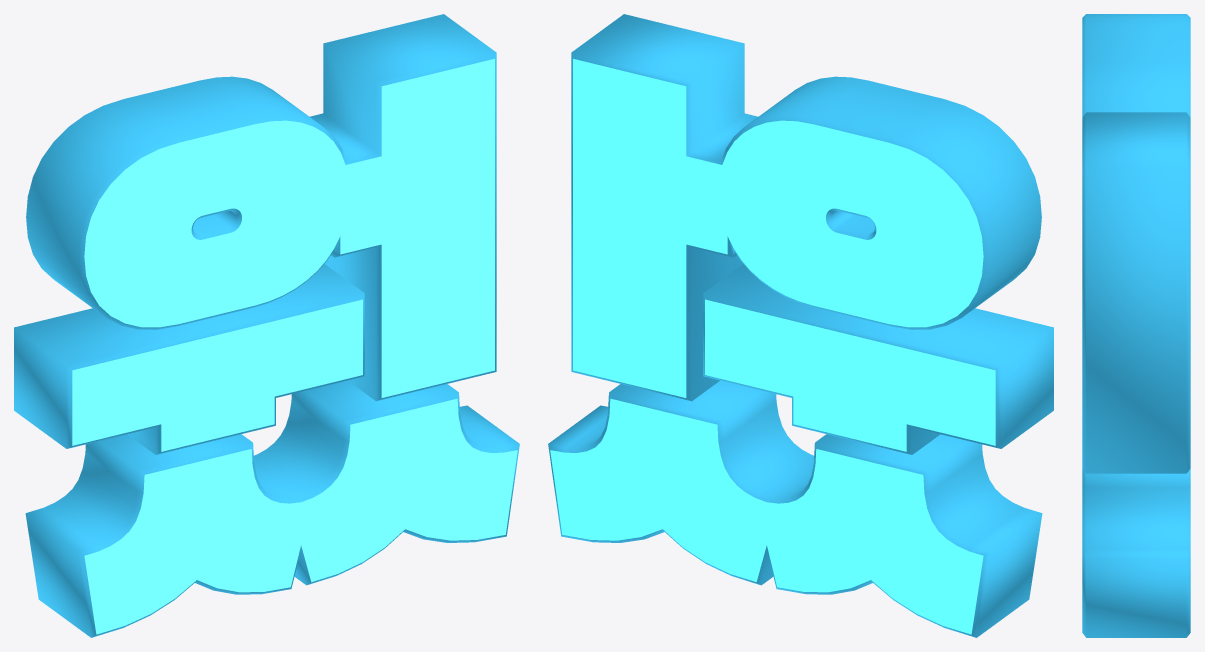
The picture shows the model from 3 angles, left to right: view 1: azimuth 30°, elevation 25°; view 2: azimuth 150°, elevation 25°; view 3: azimuth 270°, elevation 25°; orthographic projection. The views are drawn at different scales.
Parts seen in each view (by area): view 1: glyph; view 2: glyph; view 3: glyph.
Part boxes in pixels (x1=…): glyph: x1=14, y1=14, x2=519, y2=637; glyph: x1=548, y1=14, x2=1053, y2=637; glyph: x1=1082, y1=14, x2=1190, y2=637.
Size of the model in its own units: 0.0747 by 0.0766 by 0.0162.
